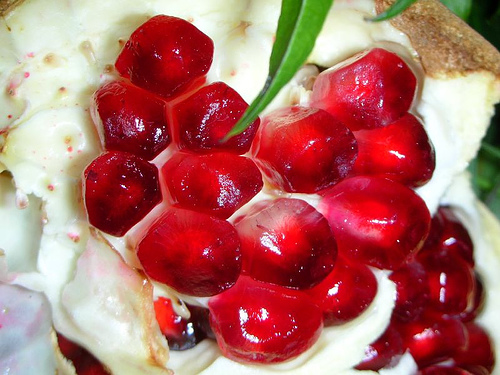pomogranate: (84, 14, 494, 374)
